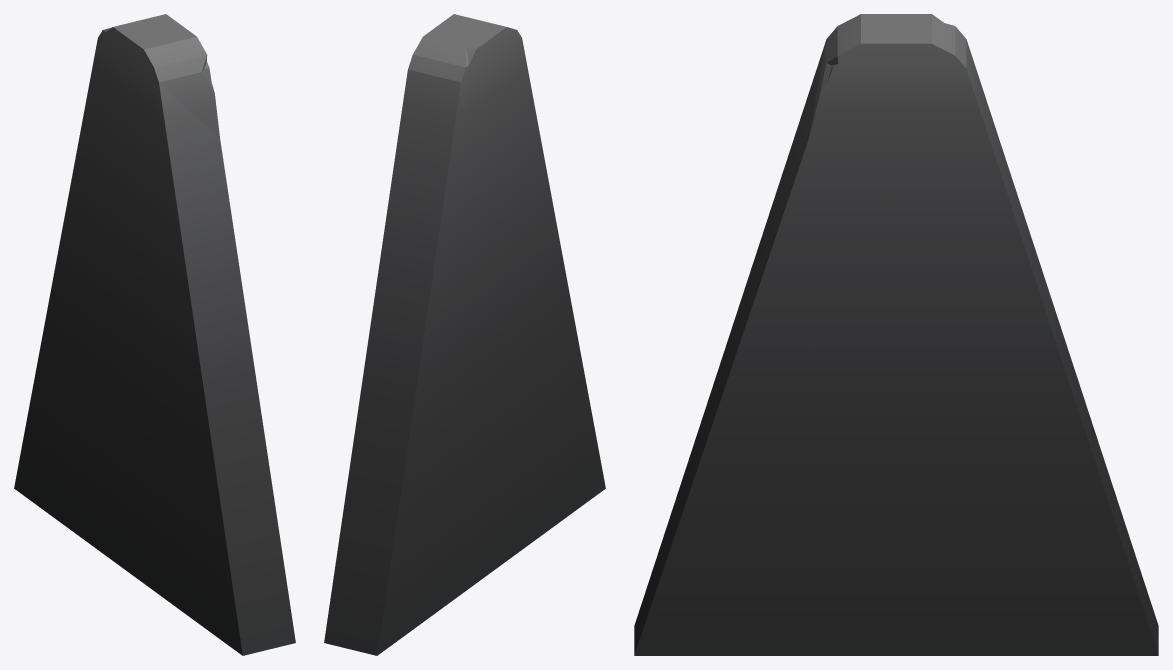
File: Stone Wall Large End 01.fbx
The picture shows the model from 3 angles, left to right: view 1: azimuth 30°, elevation 25°; view 2: azimuth 150°, elevation 25°; view 3: azimuth 270°, elevation 25°; orthographic projection. The views are drawn at different scales.
Visible parts, largest first — view 1: Stone Wall Large End 01, Stone Wall Large End 01 high; view 2: Stone Wall Large End 01, Stone Wall Large End 01 high; view 3: Stone Wall Large End 01, Stone Wall Large End 01 high.
Boxes of the visible parts, bbox=[...] form: Stone Wall Large End 01: bbox=[14, 14, 295, 655]; Stone Wall Large End 01 high: bbox=[74, 14, 219, 344]; Stone Wall Large End 01: bbox=[324, 15, 605, 655]; Stone Wall Large End 01 high: bbox=[408, 14, 550, 321]; Stone Wall Large End 01: bbox=[634, 14, 1158, 655]; Stone Wall Large End 01 high: bbox=[773, 14, 1025, 307].
Bounding box in the file's own units: 0.826 × 7.93 × 6.16.
Materials: 1 (1 with a texture image).
